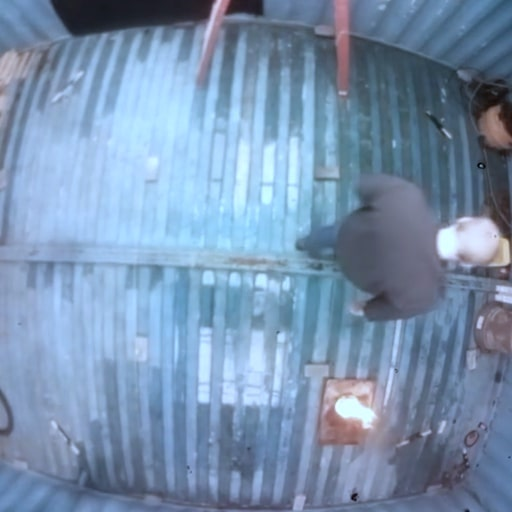Fire: (332, 393, 377, 431)
